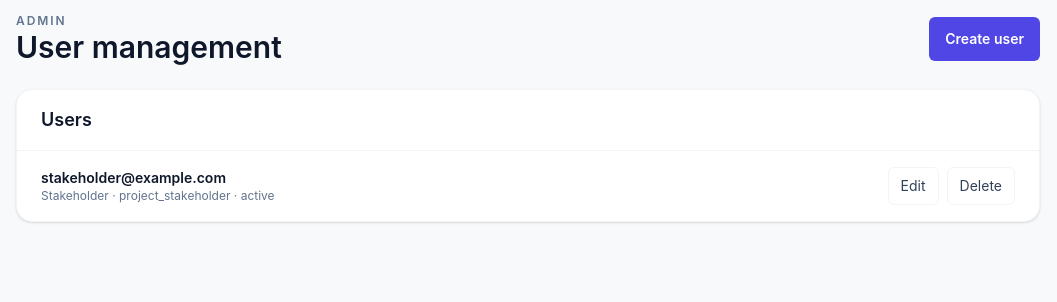
Test: AdminUsersPage › shows an inline error when delete fails
Expected: the text "stakeholder@example.com" is shown, [41,169,226,186]
Click the button "Delete": (981, 186) [947,167,1015,205]
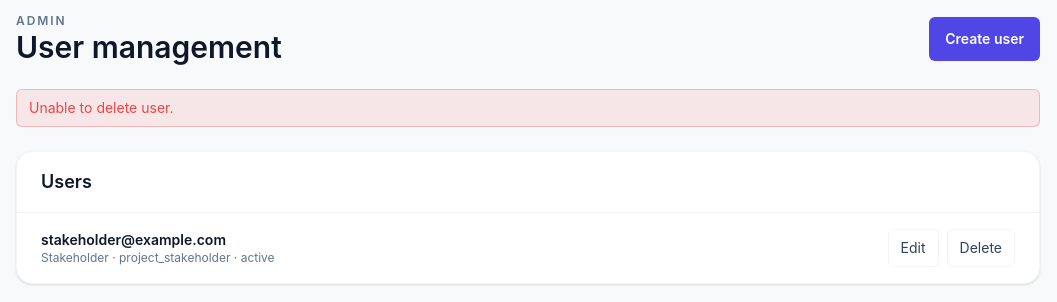
Expected: the message reads "Unable to delete user.", [29,99,174,116]
